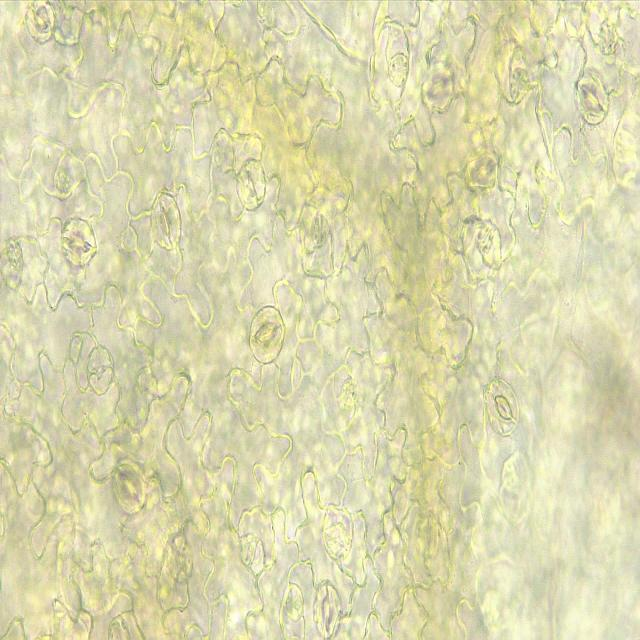Stomata: (248, 304, 287, 365), (484, 378, 520, 438), (574, 70, 611, 126), (60, 216, 98, 268), (150, 191, 182, 252), (112, 462, 146, 514), (236, 156, 267, 212), (313, 582, 341, 640), (24, 0, 56, 44)
